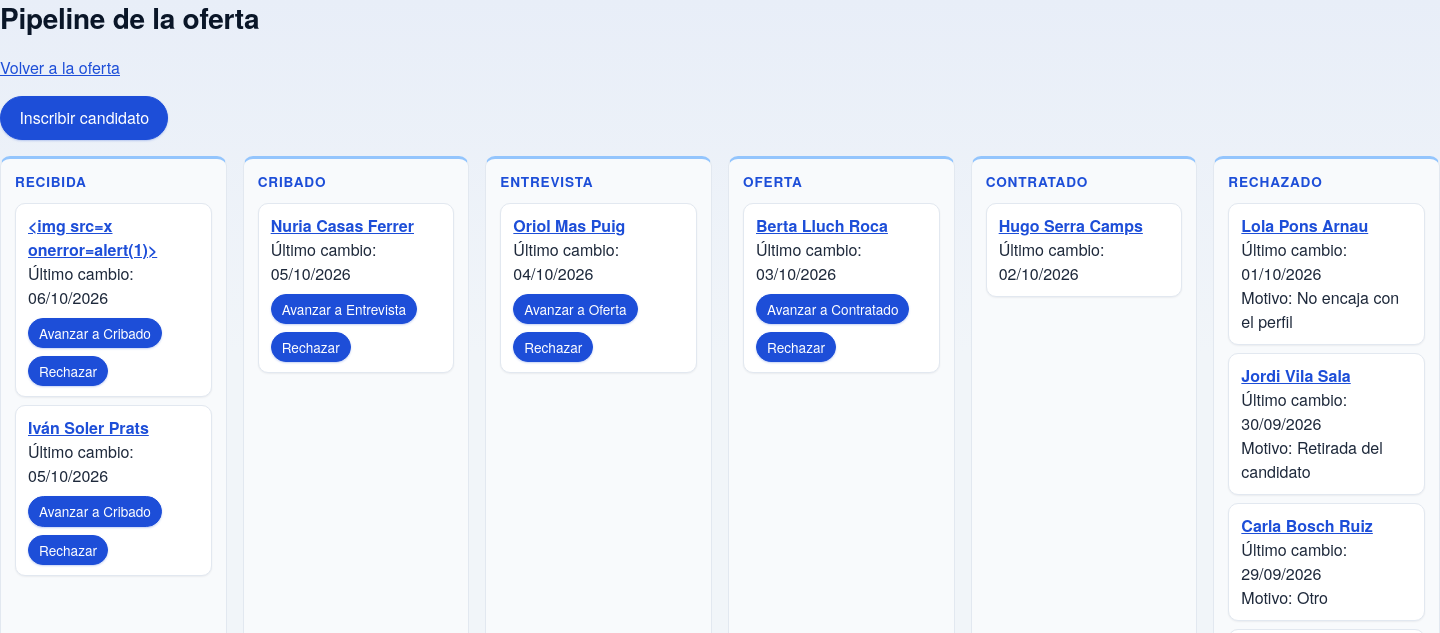
Test: PipelineScreen: hostiles y fallos (RF-07, RF-08) › EC-38/RNF-06: un nombre con HTML se pinta como texto en la tarjeta y en los resultados; ningún img
Click the button "Inscribir candidato".
click(84, 118)  # box [0,96,168,140]
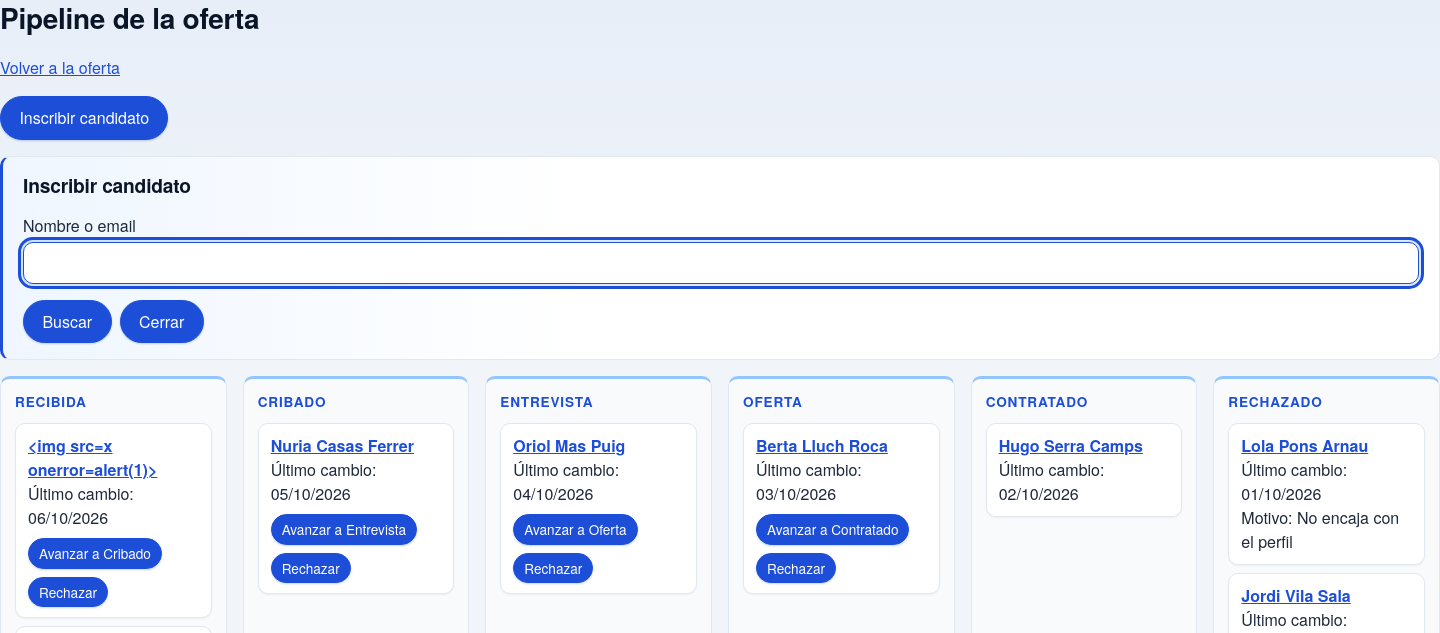
Type "ana" into the search field labelled "Nombre o email".
click(721, 263); type("ana")  # box [23,242,1419,284]
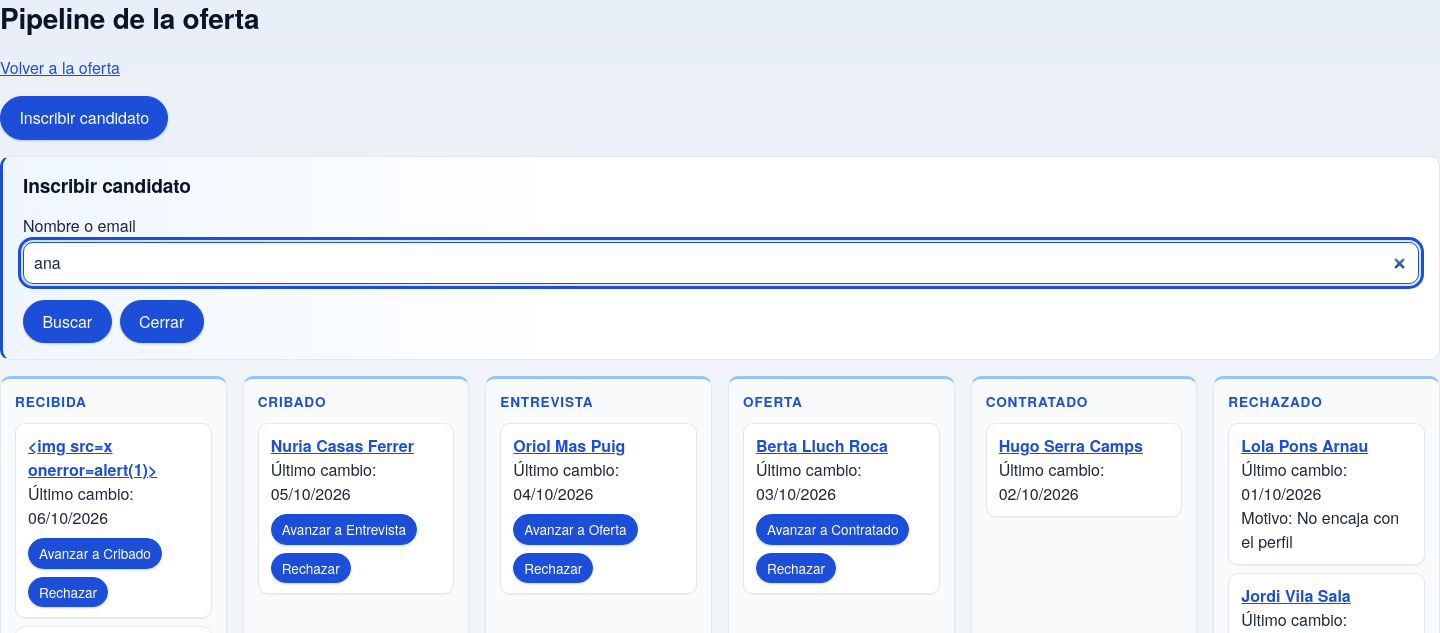
Click the button "Buscar".
click(67, 322)  # box [23,300,112,344]
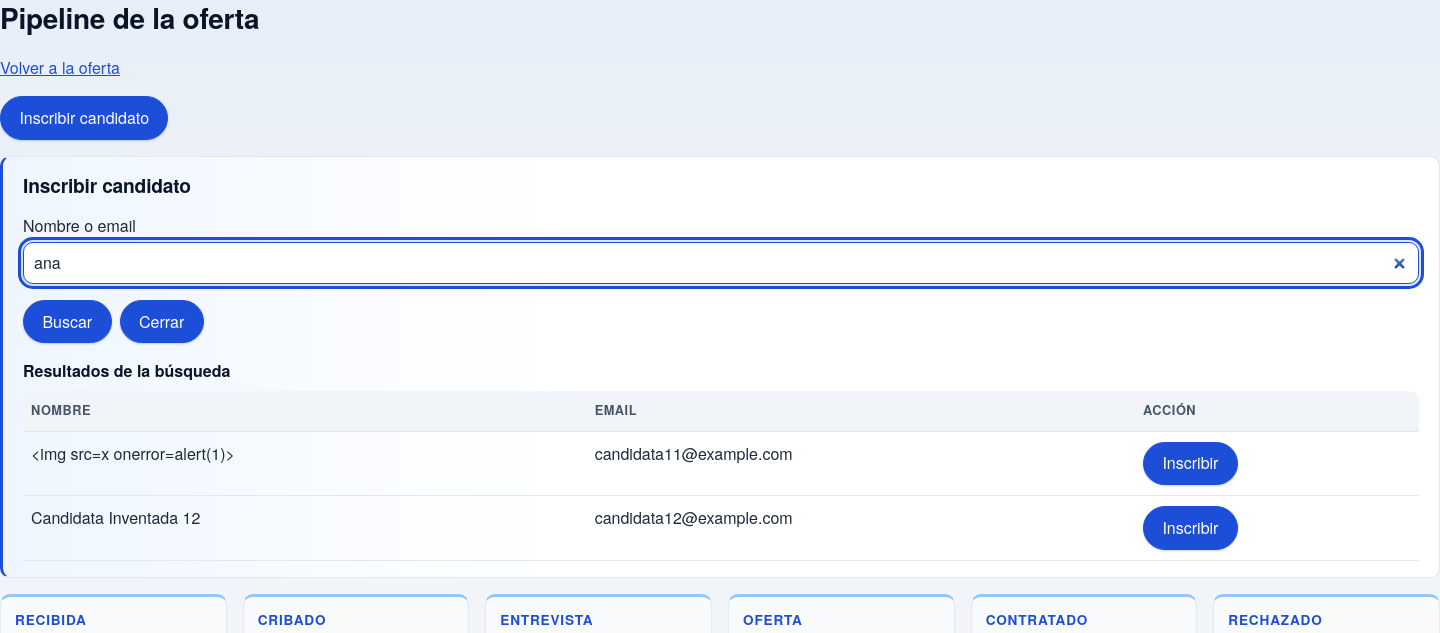
expect the table "Resultados de la búsqueda" is shown: met, box [23,360,1419,561]
expect the cell "<img src=x onerror=alert(1)>" is shown: met, box [23,431,587,496]
